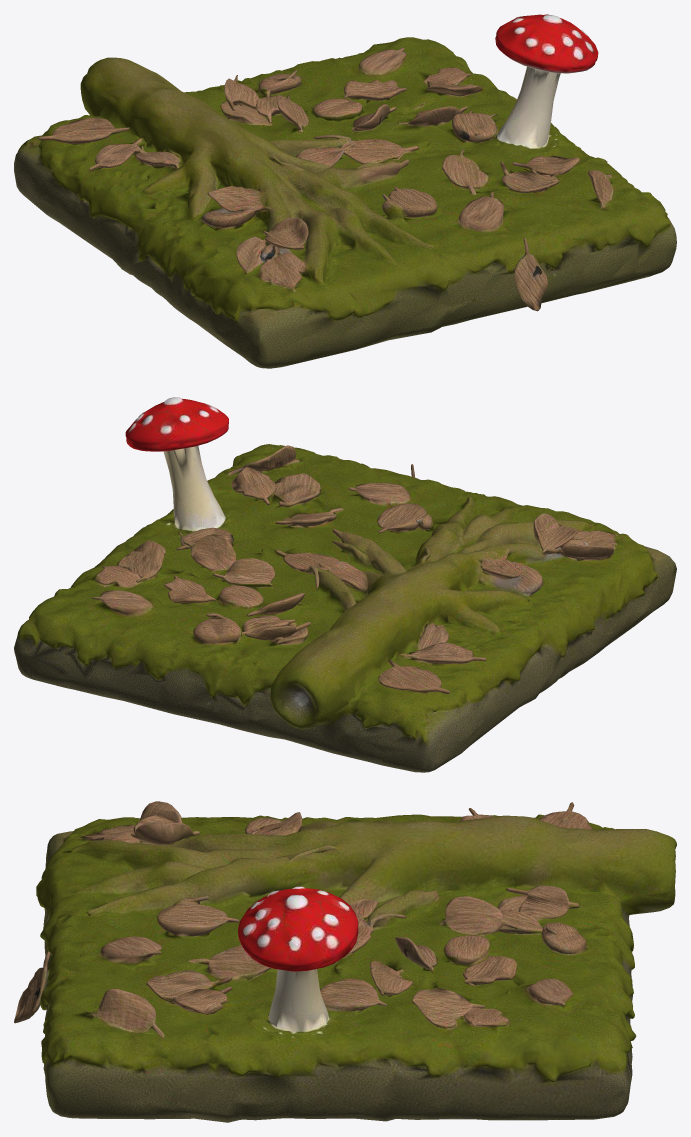
The model's file is leapBaseCanopy.1ac50631.glb.
3 views of the same model, one above another, from view 1: azimuth 30°, elevation 25°; view 2: azimuth 150°, elevation 25°; view 3: azimuth 270°, elevation 25° (orthographic). The views are drawn at different scales.
Bounding box in the file's own units: 1.72 × 0.695 × 1.9.
1 material, 1 textured.
